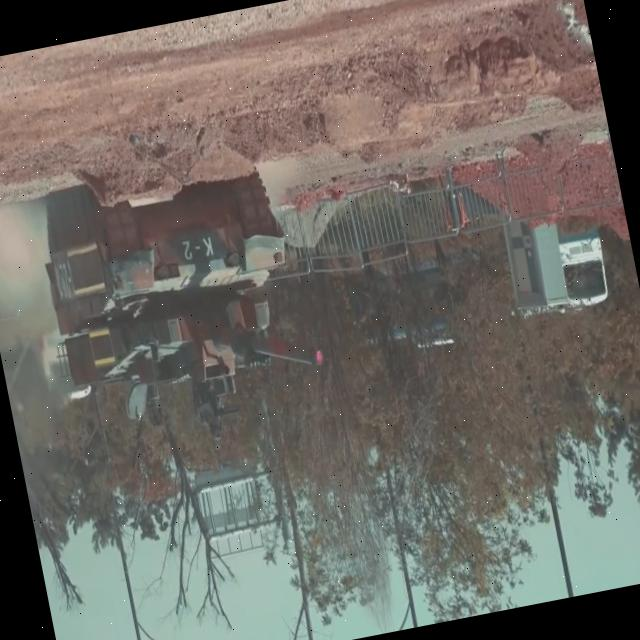korea tank: (24, 147, 336, 468)
